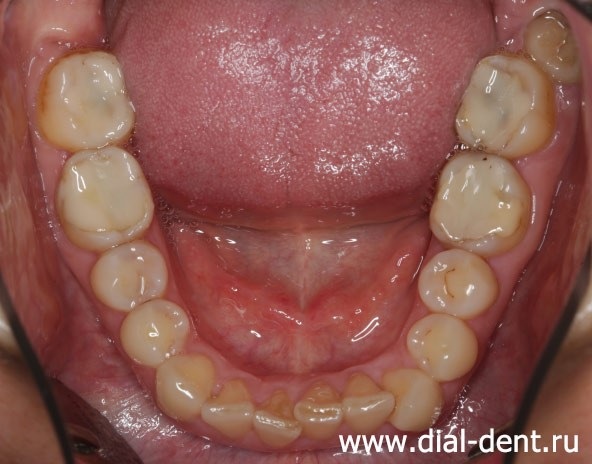LL1BC_healthy: (406, 314, 476, 379)
LL1M_healthy: (436, 162, 527, 253)
LL2BC_decay: (420, 252, 498, 315)
LL2M_decay: (455, 56, 551, 150)
LL3M_decay: (511, 3, 575, 64)
LLCI_decay: (298, 384, 341, 438)
LLC_healthy: (388, 367, 440, 428)
LLLI_healthy: (342, 374, 393, 431)
LR1BC_healthy: (122, 301, 189, 364)
LR1M_healthy: (56, 146, 154, 241)
LR2BC_healthy: (93, 244, 167, 310)
LR2M_healthy: (49, 55, 133, 148)
LR3M_decay: (17, 2, 105, 54)
LRCI_decay: (257, 389, 299, 445)
LRC_healthy: (158, 355, 211, 418)
LRLI_healthy: (206, 381, 252, 434)
